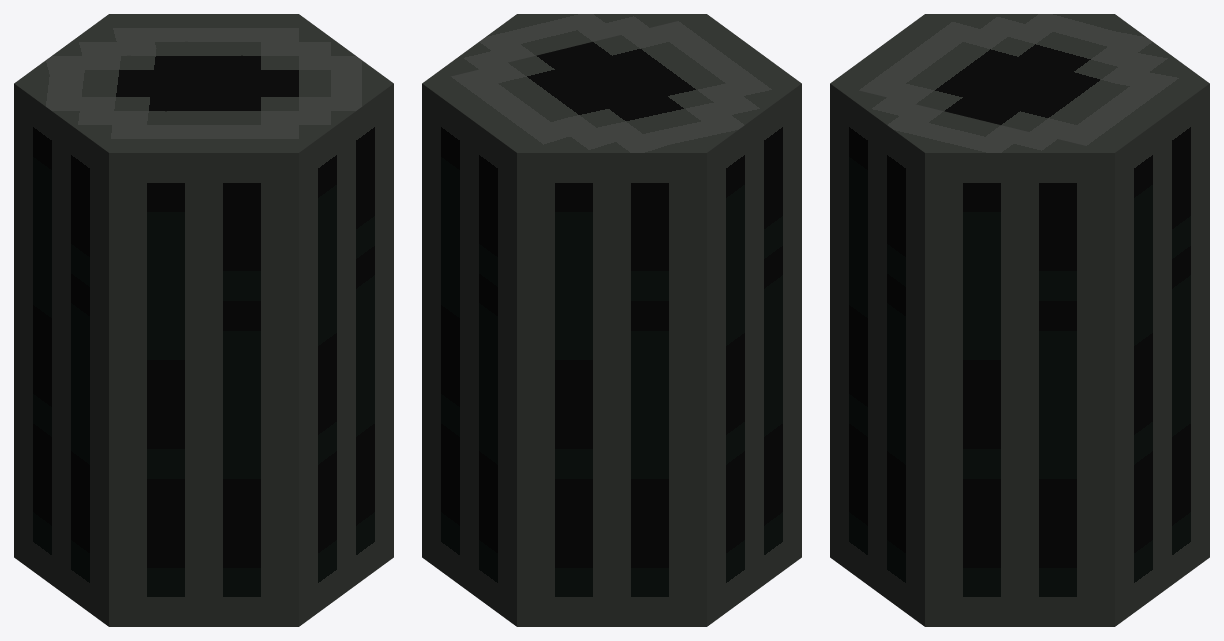
File: GarbageCanBlack.fbx
3 renders of one model, left to right at view 1: azimuth 30°, elevation 25°; view 2: azimuth 150°, elevation 25°; view 3: azimuth 270°, elevation 25°, orthographic.
Visible parts, largest first — view 1: Cylinder; view 2: Cylinder; view 3: Cylinder.
Boxes of the visible parts, <box> form: Cylinder: <box>14,14,393,626</box>; Cylinder: <box>422,14,801,626</box>; Cylinder: <box>830,14,1209,626</box>.
Size of the model in its own units: 52.9 by 84.13 by 61.08.
Materials: 1 (1 with a texture image).
